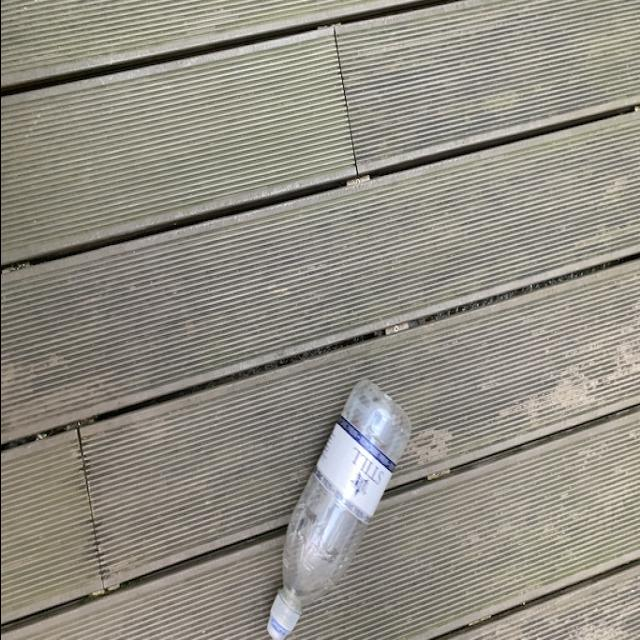PET: (267, 375, 411, 640)
